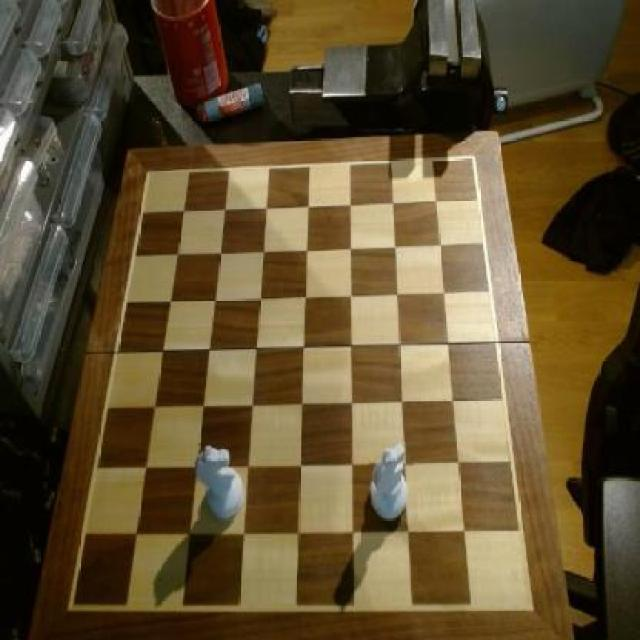white-king: (197, 443, 246, 523), (368, 442, 413, 526)
